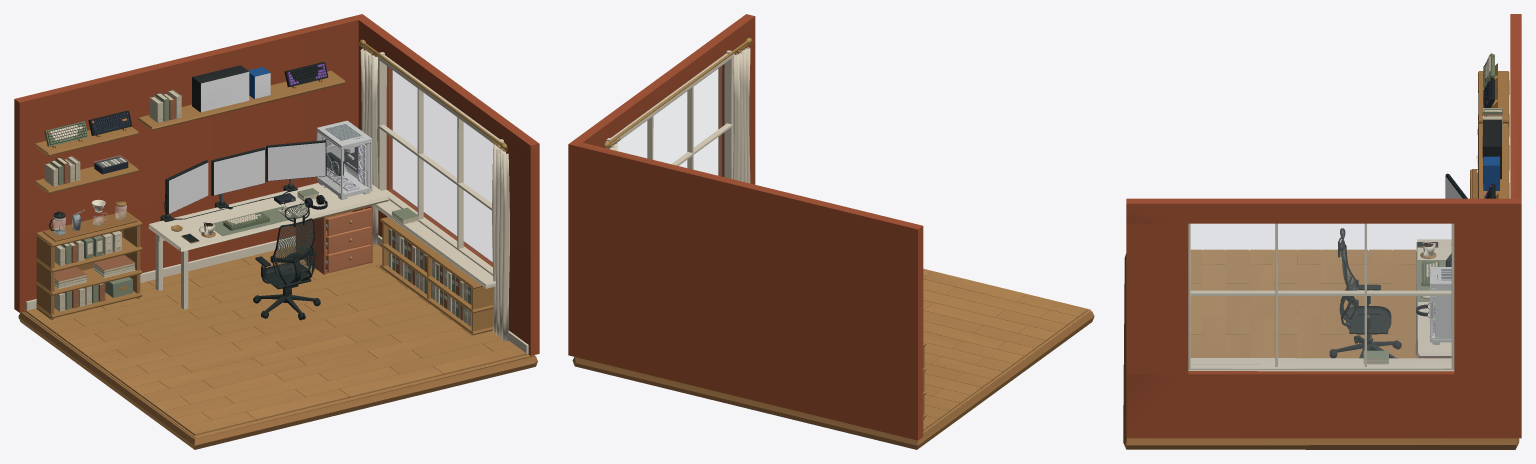
File: sams-office.glb
The picture shows the model from 3 angles, left to right: view 1: azimuth 30°, elevation 25°; view 2: azimuth 150°, elevation 25°; view 3: azimuth 270°, elevation 25°; orthographic projection. The views are drawn at different scales.
Visible parts, largest first — view 1: Sam's office; view 2: Sam's office; view 3: Sam's office.
Boxes of the visible parts, x1,y1,x2,y2 form: Sam's office: (14,14,539,449); Sam's office: (568,14,1094,449); Sam's office: (1123,14,1521,449).
Size of the model in its own units: 6.24 by 3.81 by 5.54.
